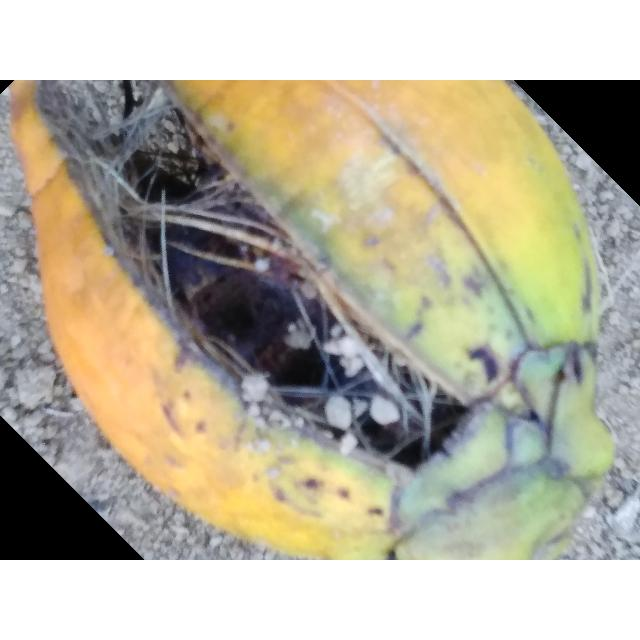damaged: (5, 80, 616, 560)
